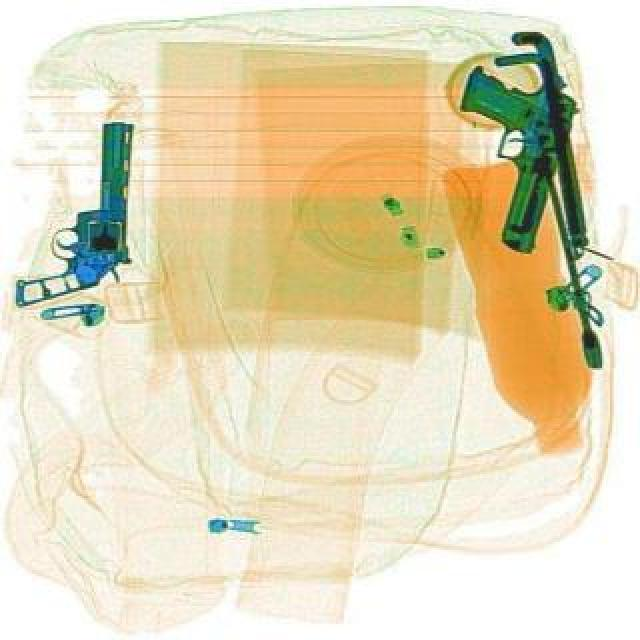gun: (424, 60, 588, 258), (20, 122, 140, 314)
